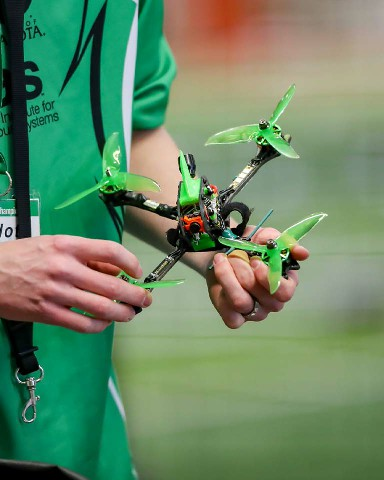maybay_khongnguoilai: (46, 100, 328, 293)
